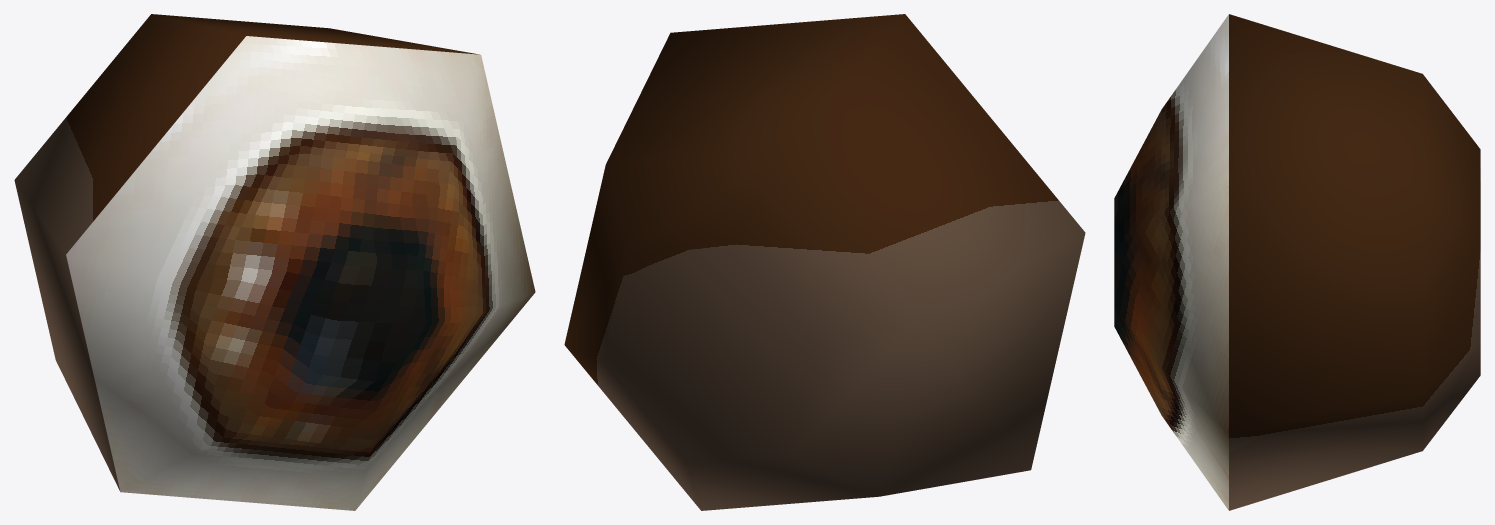
The model's file is Eyeball.dae.
3 renders of one model, left to right at view 1: azimuth 30°, elevation 25°; view 2: azimuth 150°, elevation 25°; view 3: azimuth 270°, elevation 25°, orthographic. The views are drawn at different scales.
Parts seen in each view (by area): view 1: Eyeball.L; view 2: Eyeball.L; view 3: Eyeball.L.
Part boxes in pixels (x1,y1,x2,y2): Eyeball.L: (14, 14, 535, 510); Eyeball.L: (564, 14, 1085, 510); Eyeball.L: (1114, 14, 1480, 510).
Bounding box in the file's own units: 0.3284 × 0.2475 × 0.3353.
1 material, 1 textured.
